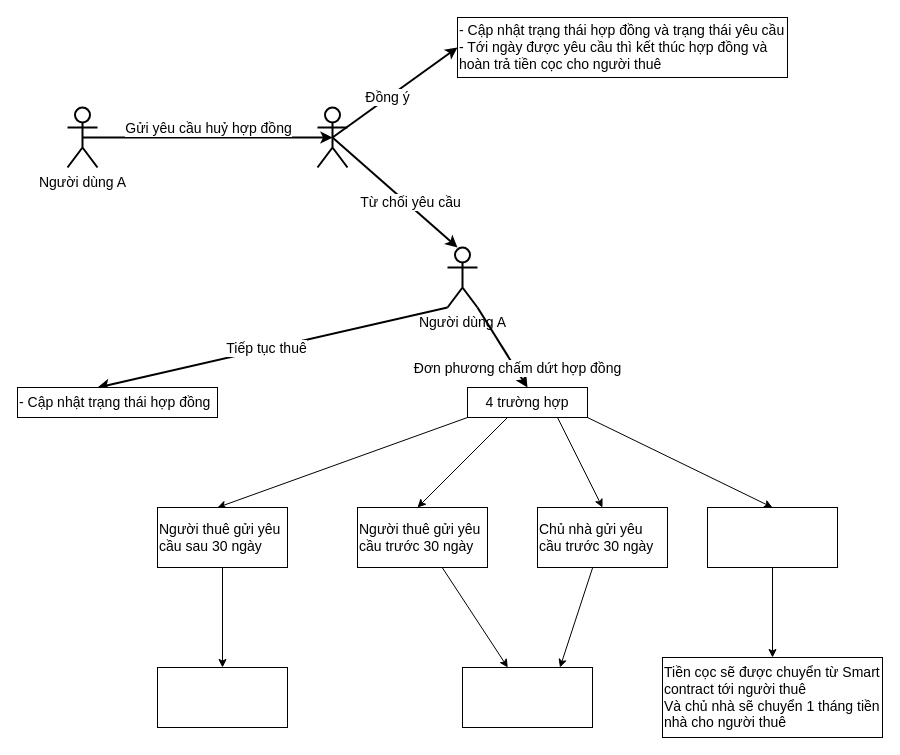
Some shapes in this 900 by 755 pixel diagram are drawn without their labels. Here are the shapes that lost their labels. From the top down, the centre of each, then its label:
(332,137): Người dùng B
(772,537): Chủ nhà gửi yêu cầu sau 30 ngày
(222,697): Tiền cọc sẽ được chuyển từ Smart Contract tới chủ nhà
(527,697): Tiền cọc sẽ được hoàn về cho người thuê
